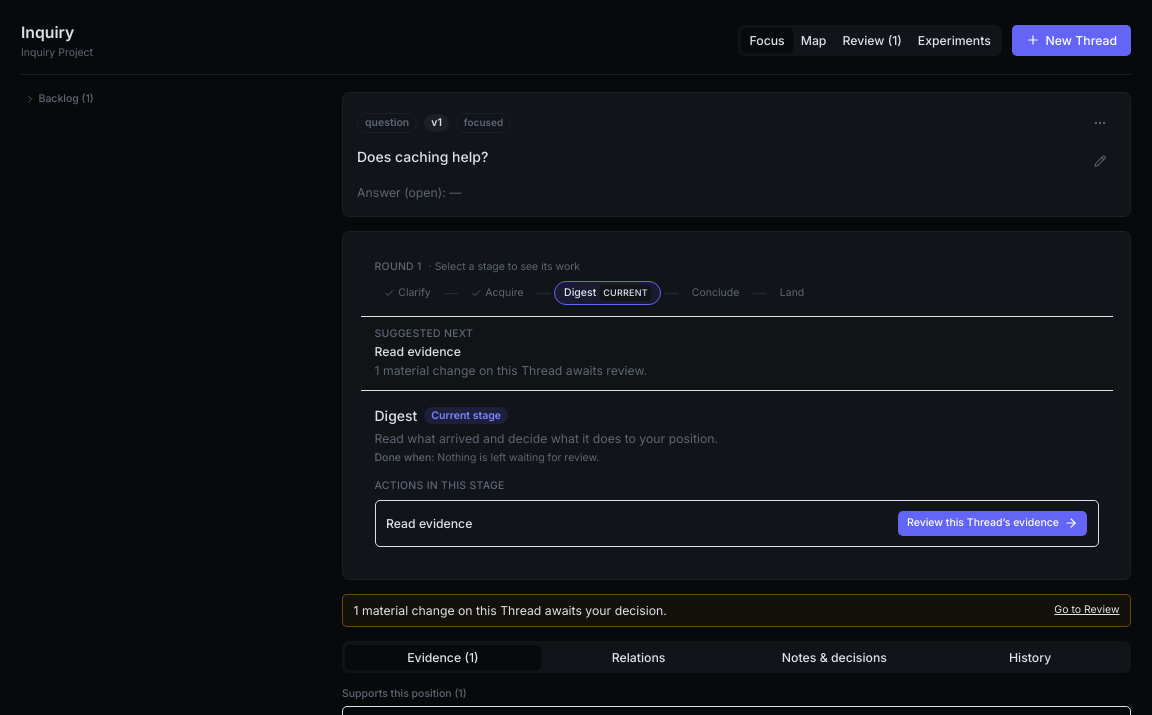
Test: InquiryAreaPage › keeps recommending while a step is in progress, instead of falling silent
Expected: the text "Suggested next" is shown, [374,327,473,340]
Expected: the text "1 material change on this Thread awaits review." is shown, [374,363,647,378]
Click the tab "Conclude" at [716, 293], box [682,281,749,304]
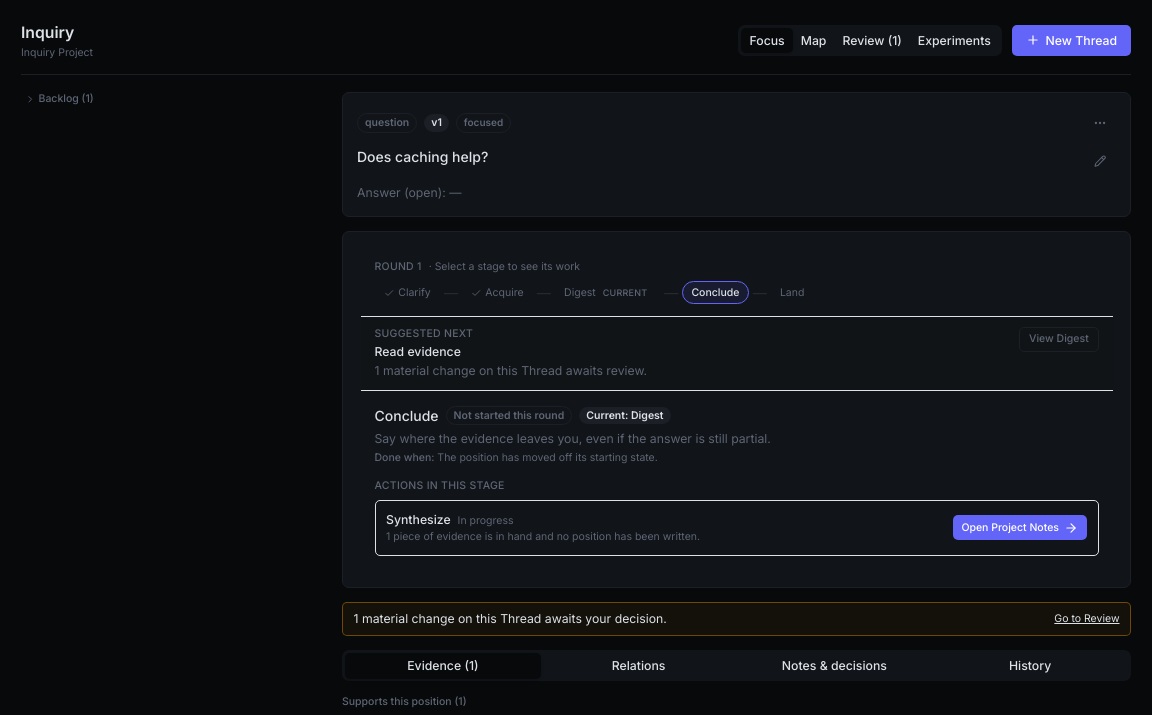
Result: the text "In progress" is shown at [458,514,514,527]
